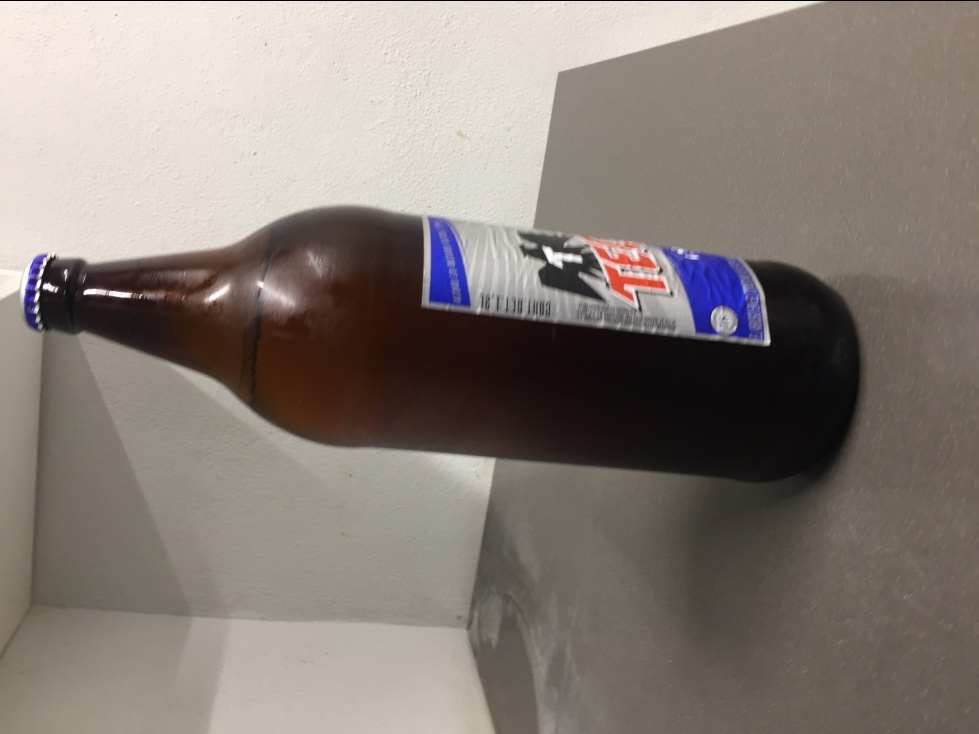tecateC: (23, 203, 864, 483)
